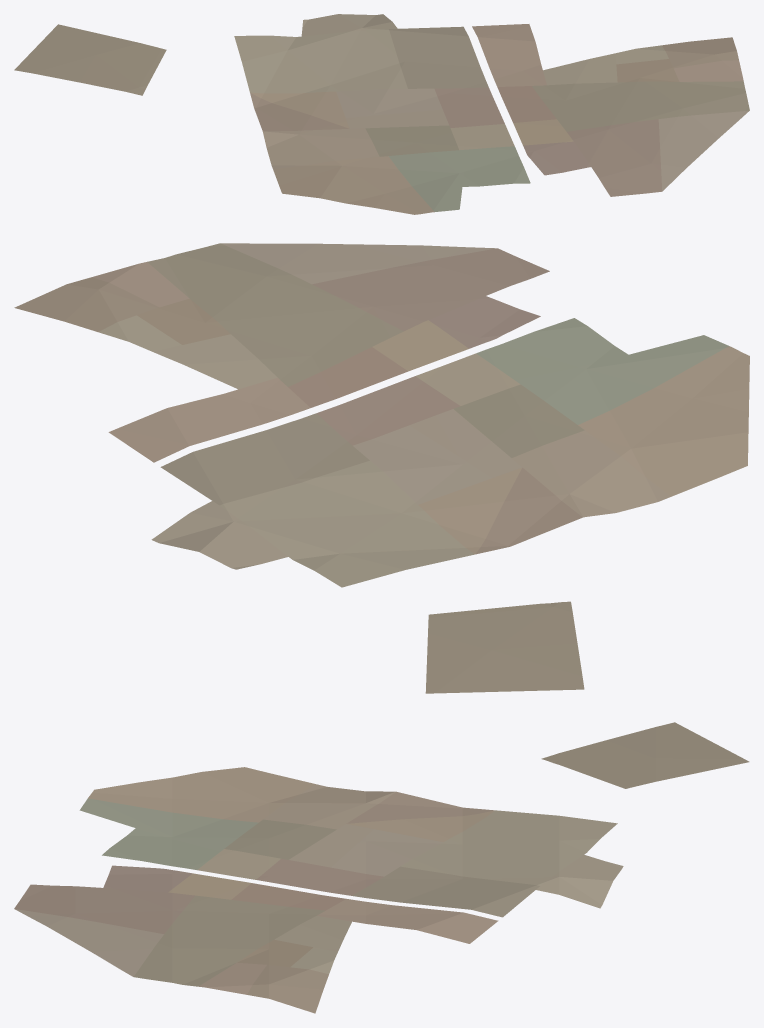
File: farm_-9_6_soil.glb
The picture shows the model from 3 angles, top to bottom: view 1: azimuth 30°, elevation 25°; view 2: azimuth 150°, elevation 25°; view 3: azimuth 270°, elevation 25°; orthographic projection. The views are drawn at different scales.
Parts seen in each view (by area): view 1: geometry_0; view 2: geometry_0; view 3: geometry_0.
Boxes of the visible parts, bbox=[...] form: geometry_0: bbox=[14, 14, 749, 214]; geometry_0: bbox=[14, 243, 749, 693]; geometry_0: bbox=[14, 722, 749, 1013].
Bounding box in the file's own units: 600 × 28.65 × 609.
